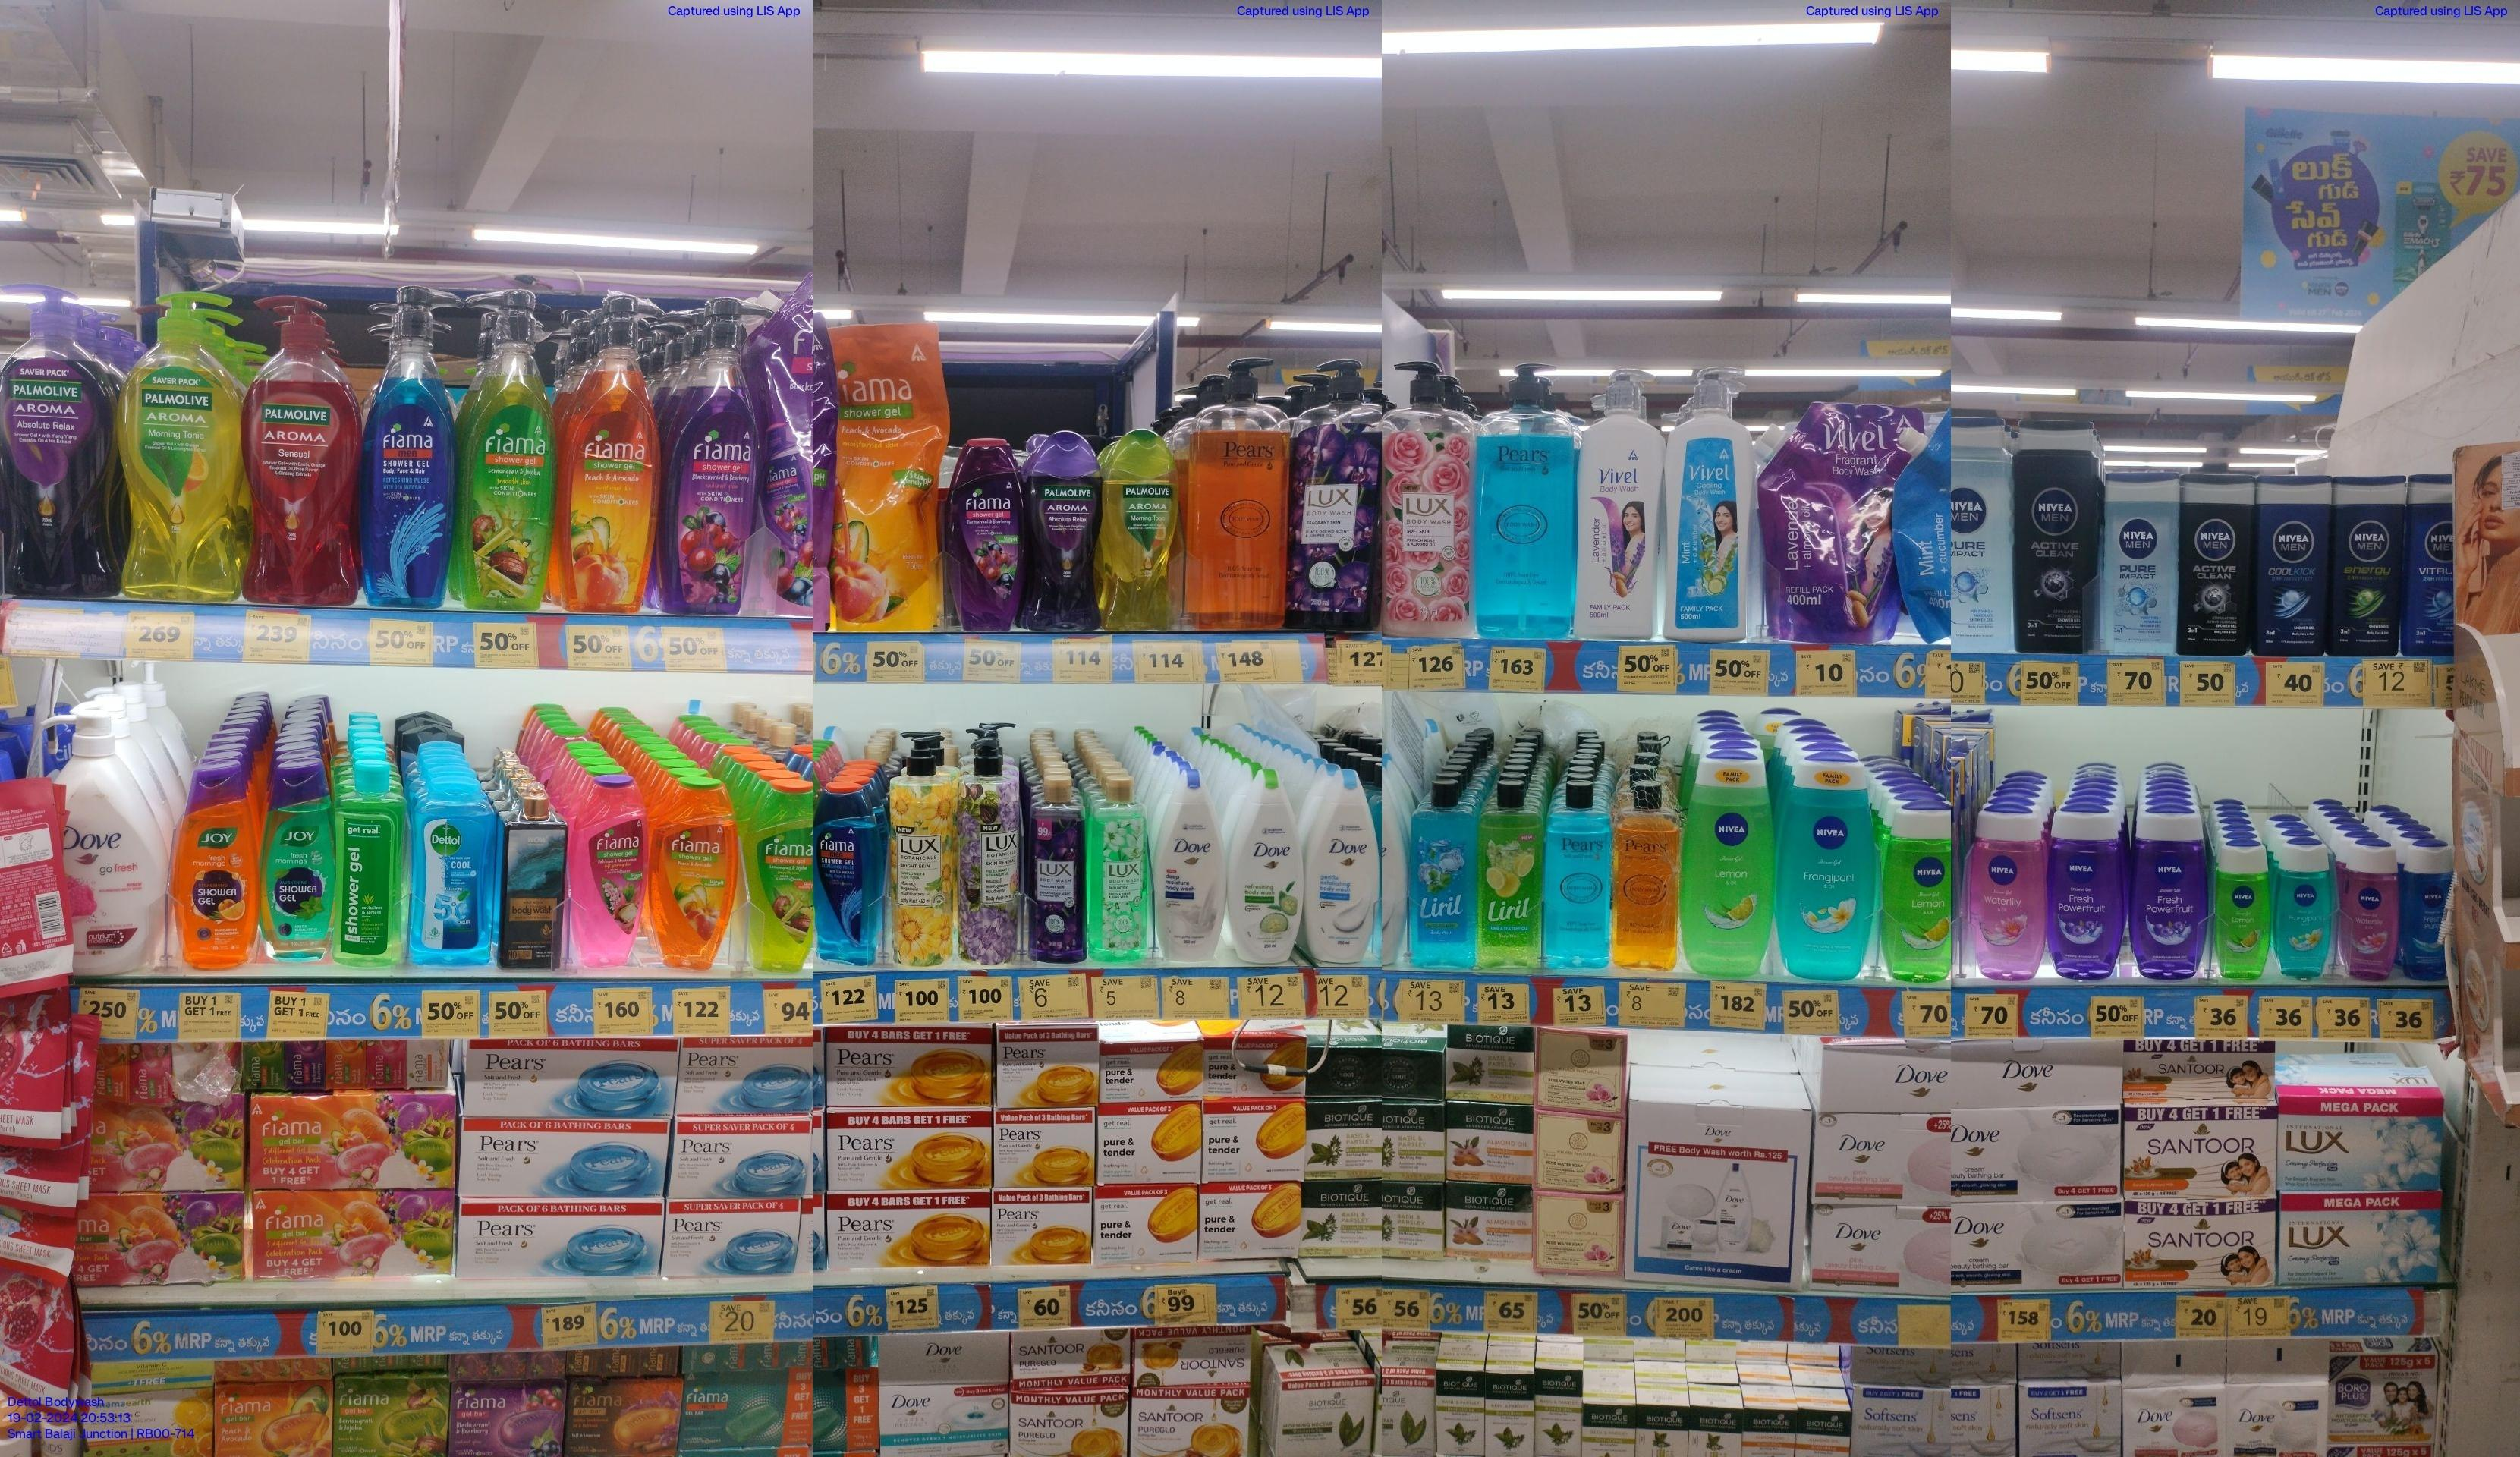Dettol_Bodywash_Cool: (413, 794, 493, 970)
Dove_Deep_Moisture_Body_Wash_250ML: (1152, 770, 1221, 963)
Dove_Gentle_Exfoliating_Body_Wash_250ML: (1304, 767, 1372, 966)
Dove_Refreshing_Body_Wash_250ML: (1228, 760, 1301, 963)
Fiama_Shower_Gel_Lemongrass_and_Jojoba_250ML: (746, 782, 813, 975)
Fiama_Shower_Gel_Patchouli_and_Macadamia_250ML: (569, 781, 645, 968)
Fiama_Shower_Gel_Peach_and_Avocado_250ML: (654, 784, 734, 971)
Joy_Shower_Gel_Mandarin_and_Lemongrass_250ML: (177, 765, 260, 971)
Joy_Shower_Gel_Mint_and_Eucalyptus_250ML: (264, 772, 335, 959)
Liril_Cooling_Mint_Body_Wash_250ML: (1407, 781, 1472, 959)
Liril_Lime_and_Tea_Tree_Oil_Body_Wash_250ML: (1478, 774, 1542, 966)
Lux_Black_Orchid_Scent_and_Juniper_Oil_Body_Wash_245ML: (1025, 772, 1082, 963)
Lux_Body_Wash_Skin_Detox_Freesia_Scent_and_Alove_Vera_245ML: (1086, 774, 1146, 957)
Nivea_Shower_Gel_Frangipani_and_Oil_250ML: (1774, 760, 1873, 982)
Nivea_Shower_Gel_Fresh_Powerfruit_250ML: (2130, 812, 2210, 983), (2047, 812, 2125, 973)
Nivea_Shower_Gel_Lemon_and_Oil_250ML: (1682, 753, 1771, 983), (1880, 810, 1953, 983)
Nivea_Shower_Gel_Waterlily_and_Oil_250ML: (1970, 812, 2043, 980)
Palmolive_Aroma_Morning_Tonic_Shower_Gel_250ML: (1107, 430, 1174, 630)
Palmolive_Aroma_Relax_250ML: (1028, 430, 1100, 631)
Pears_Pure_Glycerin_and_Mint_Extracts_Body_Wash_250ML: (1547, 775, 1611, 971)
